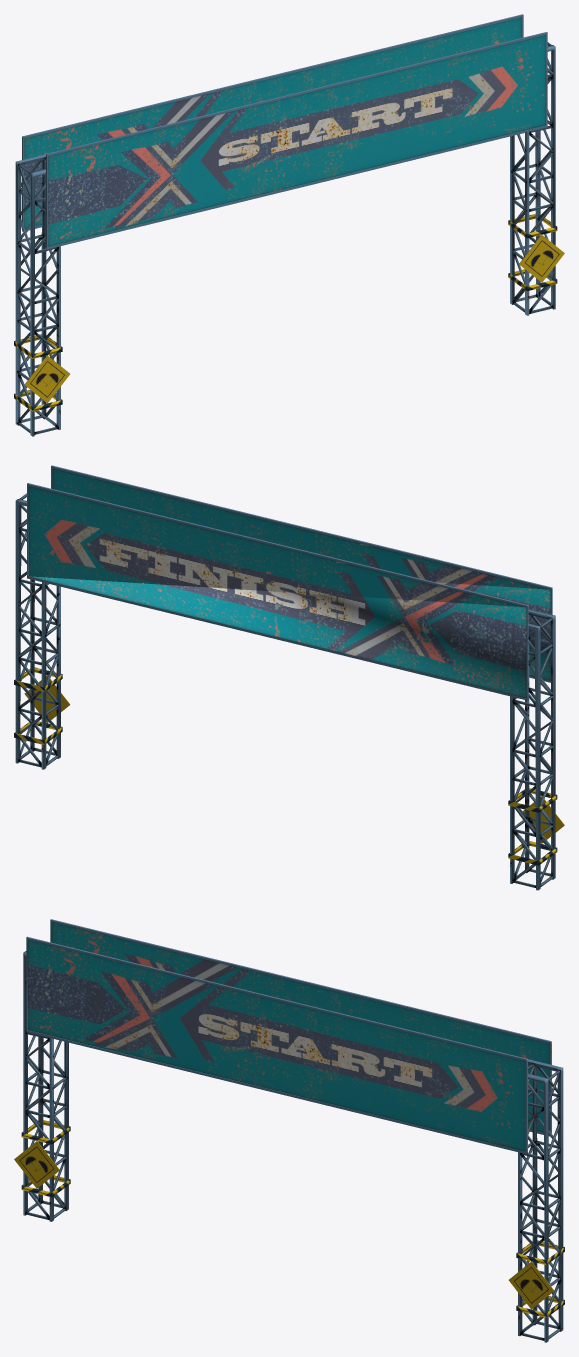
File: start.fbx
3 views of the same model, one above another, from view 1: azimuth 30°, elevation 25°; view 2: azimuth 150°, elevation 25°; view 3: azimuth 330°, elevation 25° (orthographic).
Visible parts, largest first — view 1: check; view 2: check; view 3: check.
Part boxes in pixels (bbox=[...]): check: bbox=[14, 14, 564, 436]; check: bbox=[14, 465, 564, 890]; check: bbox=[14, 919, 564, 1342].
Size of the model in its own units: 1538 by 773 by 123.
1 material, 1 textured.
